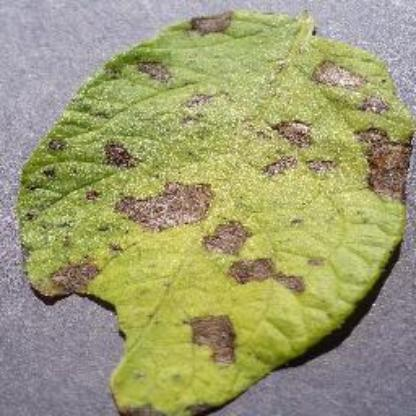Early-Blight: (17, 2, 416, 416)
